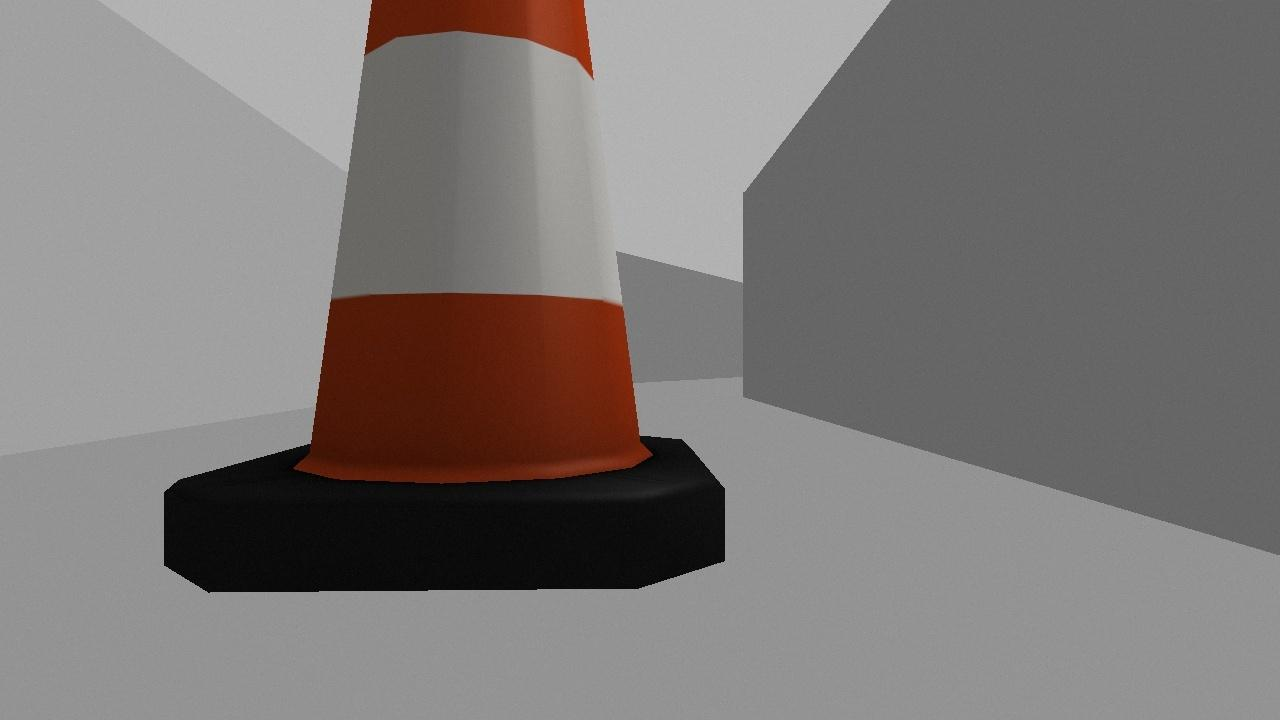cone_barrel: (161, 0, 727, 590)
